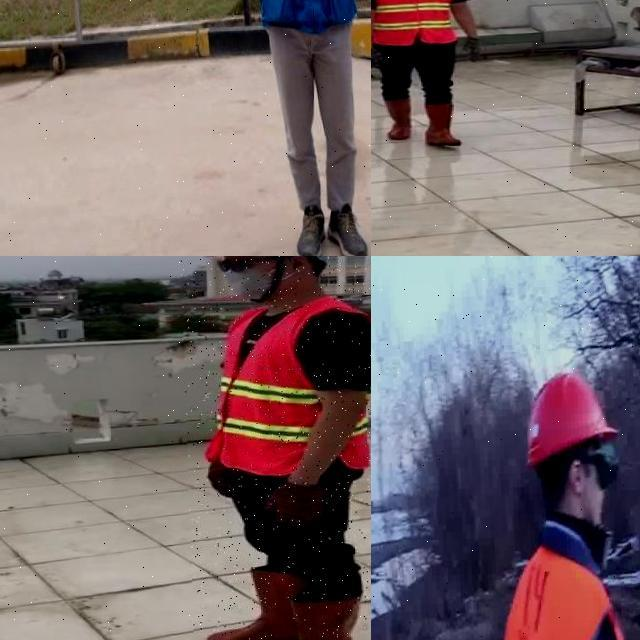boots: (200, 567, 310, 640), (248, 599, 363, 640), (322, 202, 370, 256), (424, 102, 466, 147), (294, 202, 328, 256), (380, 96, 414, 141)
helmet: (522, 368, 622, 471)
vest: (202, 297, 371, 478), (502, 532, 640, 640), (371, 0, 455, 45)
